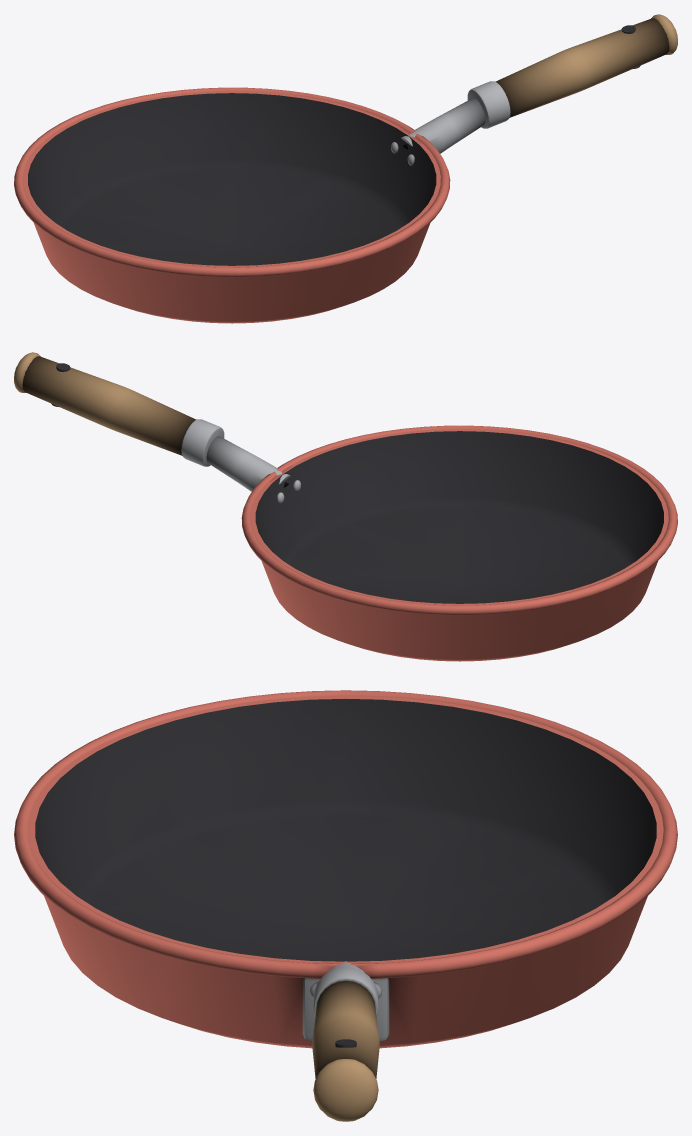
File: kit_pan.glb
3 views of the same model, one above another, from view 1: azimuth 30°, elevation 25°; view 2: azimuth 150°, elevation 25°; view 3: azimuth 270°, elevation 25° (orthographic). The views are drawn at different scales.
Visible parts, largest first — view 1: PART; view 2: PART; view 3: PART.
Boxes of the visible parts, x1,y1,x2,y2 form: PART: [14, 14, 677, 323]; PART: [14, 352, 677, 661]; PART: [14, 690, 677, 1121].
Bounding box in the file's own units: 0.4344 × 0.0857 × 0.2604.
